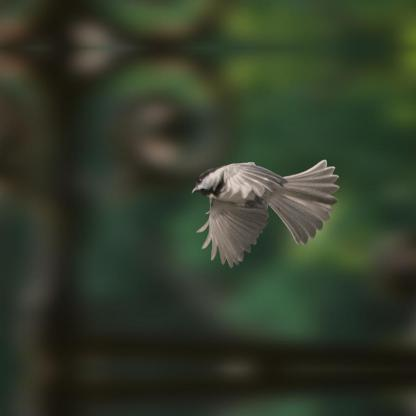Bird: (187, 156, 343, 264)
